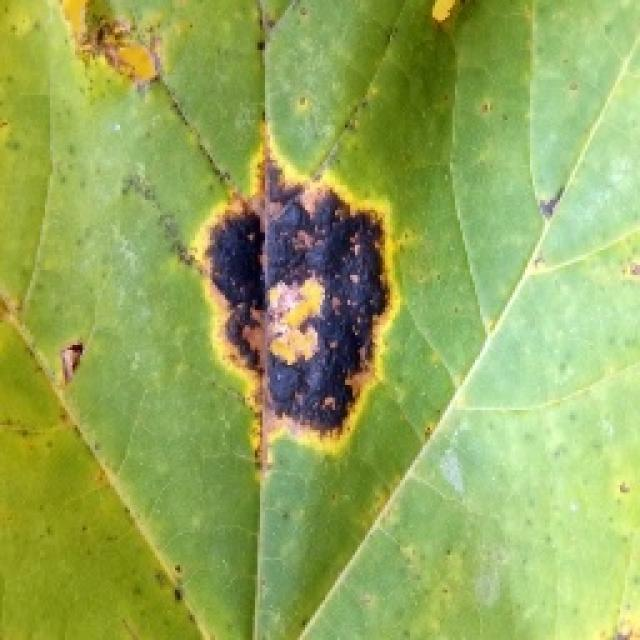Tar_Spot: (29, 16, 467, 567)
